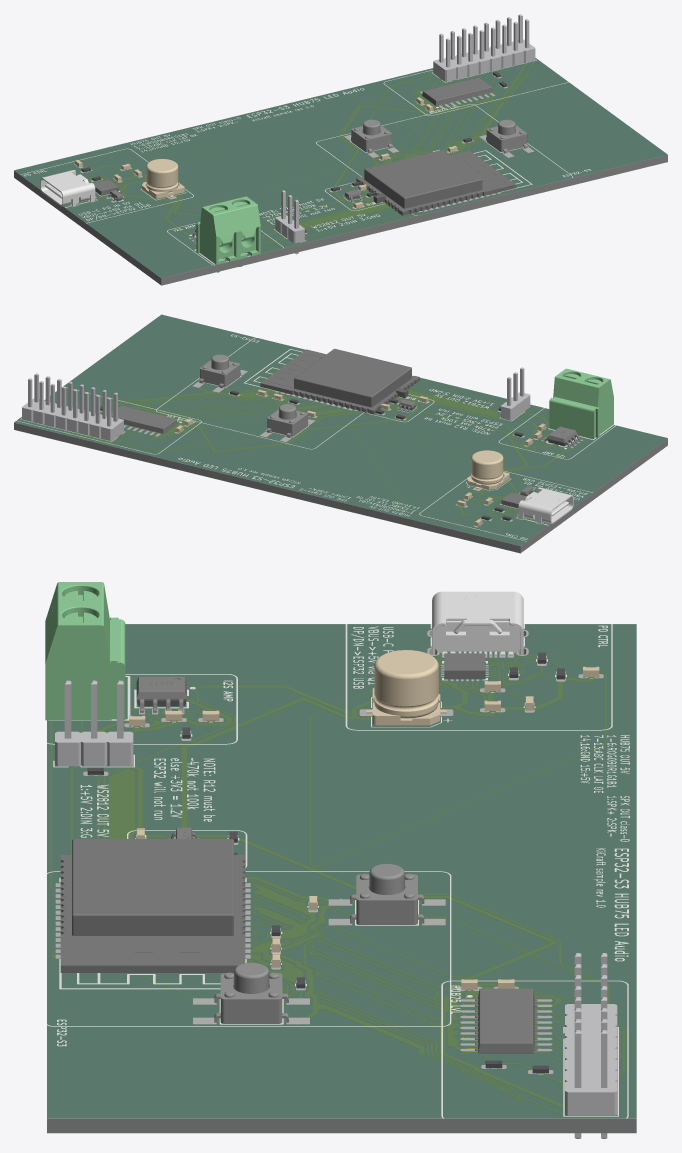
Rendered from board.glb.
The picture shows the model from 3 angles, top to bottom: view 1: azimuth 30°, elevation 25°; view 2: azimuth 150°, elevation 25°; view 3: azimuth 270°, elevation 25°; orthographic projection. The views are drawn at different scales.
Parts seen in each view (by area): view 1: =>[0:1:1:21], =>[0:1:1:23], U1, J1, J4, =>[0:1:1:20], =>[0:1:1:17], J3, C5, U2, SW1, SW2 (+3 smaller); view 2: =>[0:1:1:21], =>[0:1:1:23], U1, J1, =>[0:1:1:20], J4, =>[0:1:1:17], J3, C5, U2, SW2, SW1 (+4 smaller); view 3: =>[0:1:1:21], =>[0:1:1:23], U1, =>[0:1:1:17], =>[0:1:1:20], J4, J1, J3, C5, =>[0:1:1:18], J2, U2 (+4 smaller).
Boxes of the visible parts, box(x1,y1,x2,y2) form: =>[0:1:1:21]: box(14, 58, 667, 277); =>[0:1:1:23]: box(14, 59, 667, 285); U1: box(356, 150, 515, 215); J1: box(433, 14, 535, 81); J4: box(196, 196, 260, 272); =>[0:1:1:20]: box(20, 59, 591, 265); =>[0:1:1:17]: box(81, 61, 534, 247); J3: box(40, 170, 95, 206); C5: box(141, 159, 184, 198); U2: box(422, 77, 492, 105); SW1: box(486, 119, 527, 153); SW2: box(351, 119, 392, 153); =>[0:1:1:21]: box(14, 314, 667, 545); =>[0:1:1:23]: box(14, 315, 667, 553); U1: box(260, 348, 419, 414); J1: box(22, 373, 123, 440); =>[0:1:1:20]: box(16, 334, 615, 541); J4: box(549, 368, 613, 438); =>[0:1:1:17]: box(66, 387, 585, 521); J3: box(518, 487, 573, 523); C5: box(466, 450, 509, 489); U2: box(111, 405, 177, 433); SW2: box(266, 404, 308, 437); SW1: box(199, 354, 240, 388); =>[0:1:1:21]: box(47, 624, 636, 1118); =>[0:1:1:23]: box(47, 625, 636, 1132); U1: box(60, 839, 245, 972); =>[0:1:1:17]: box(51, 652, 626, 1115); =>[0:1:1:20]: box(47, 624, 629, 1118); J4: box(45, 582, 125, 720); J1: box(565, 953, 617, 1138); J3: box(432, 591, 523, 655); C5: box(366, 650, 446, 725); =>[0:1:1:18]: box(55, 630, 603, 1073); J2: box(55, 680, 133, 766); U2: box(475, 988, 537, 1053).
Bounding box in the file's own units: 0.1144 × 0.0137 × 0.0576.
